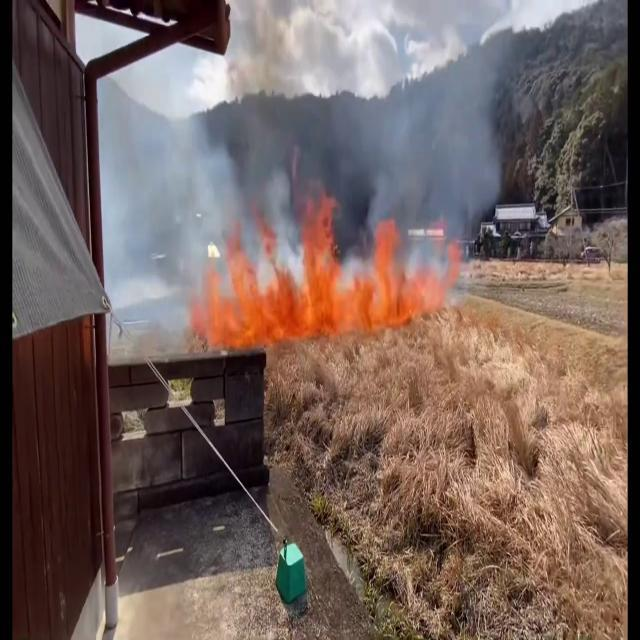Fire: (194, 194, 352, 348), (354, 205, 448, 325)
Smoke: (112, 0, 510, 269)
